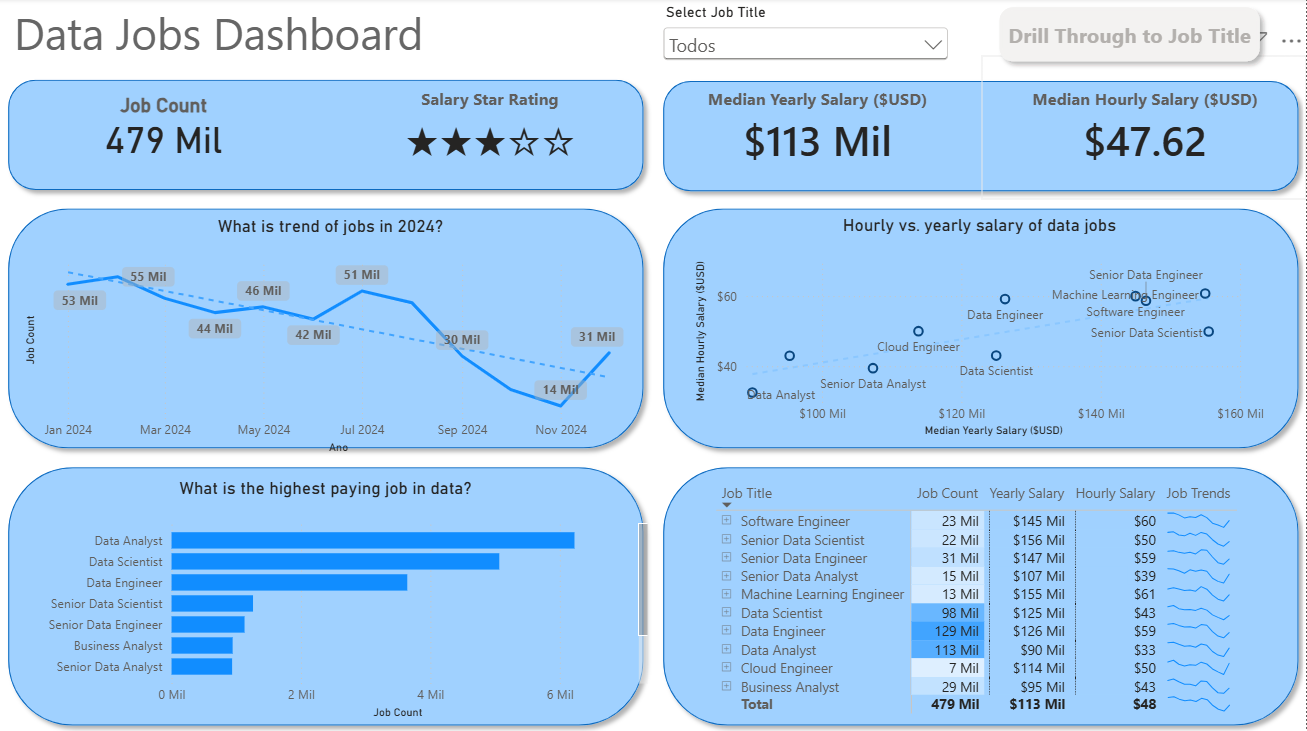

Layout of this report page (visuals, bound fields, positions):
{"tool":"powerbi","page":{"name":"Data Jobs Dashboard","canvas":[1280,720],"ordinal":0},"visuals":[{"type":"group","id":"g1","title":"Background","box":[0,70.6,1279.7,649.4],"z":0},{"type":"shape","box":[0,70.6,639.4,125.9],"z":0,"group":"g1"},{"type":"textbox","box":[9.2,0,630.8,70.9],"z":1000},{"type":"shape","box":[640.3,71.5,639.4,125.9],"z":1000,"group":"g1"},{"type":"slicer","fields":{"Values":["job_postings_flat.job_title_short"]},"box":[640,0,298.7,71.1],"z":2000},{"type":"shape","box":[0,196.5,639.4,252.7],"z":2000,"group":"g1"},{"type":"cardVisual","fields":{"Data":["CountNonNull(job_postings_flat.job_title_short)"]},"box":[0.9,56.8,320,140],"z":3000},{"type":"shape","box":[640.3,196.5,639.4,252.7],"z":3000,"group":"g1"},{"type":"cardVisual","fields":{"Data":["job_postings_flat.Salary Star Rating"]},"box":[320.9,56.4,320,140],"z":4000},{"type":"shape","box":[0,449.2,639.4,270.8],"z":4000,"group":"g1"},{"type":"cardVisual","fields":{"Data":["Median(job_postings_flat.salary_year_avg)"]},"box":[640.9,56.4,320,140],"z":5000},{"type":"shape","box":[640.3,449.2,639.4,270.8],"z":5000,"group":"g1"},{"type":"cardVisual","fields":{"Data":["Median(job_postings_flat.salary_hour_avg)"]},"box":[960.9,56.4,320,140],"z":6000},{"type":"lineChart","title":"What is trend of jobs in 2024?","fields":{"Category":["job_postings_flat.job_posted_date.Variation.Hierarquia de datas.Ano","job_postings_flat.job_posted_date.Variation.Hierarquia de datas.Trimestre","job_postings_flat.job_posted_date.Variation.Hierarquia de datas.Mês","job_postings_flat.job_posted_date.Variation.Hierarquia de datas.Dia"],"Y":["CountNonNull(job_postings_flat.job_title_short)"]},"box":[20.2,212.2,607.3,237.5],"z":7000},{"type":"barChart","title":"What is the highest paying job in data?","fields":{"Category":["job_postings_flat.job_title_short"],"Y":["CountNonNull(job_postings_flat.salary_year_avg)"]},"box":[0,469.8,639.1,239.9],"z":8000},{"type":"scatterChart","title":"Hourly vs. yearly salary of data jobs","fields":{"Series":["job_postings_flat.job_title_short"],"X":["Median(job_postings_flat.salary_year_avg)"],"Y":["Median(job_postings_flat.salary_hour_avg)"]},"box":[676.5,211.9,566,222.8],"z":9000},{"type":"pivotTable","fields":{"Rows":["job_postings_flat.job_title_short","job_postings_flat.job_posted_date.Variation.Hierarquia de datas.Trimestre"],"Values":["CountNonNull(job_postings_flat.job_title_short)","Median(job_postings_flat.salary_year_avg)","Median(job_postings_flat.salary_hour_avg)","SparklineData(CountNonNull(job_postings_flat.job_title_short)_[job_postings_flat.job_posted_date.Variation.Hierarquia de"]},"box":[697.3,469.9,582.1,249.6],"z":10000},{"type":"actionButton","box":[969.7,0,272.7,70.9],"z":11000}]}

Visuals, with their boxes in screenshot pixels (x1, y1, x2, y2), scaled from the page's 1280x720 canvas onto the 1307x731 screenshot:
"Background" group: (left=0, top=72, right=1306, bottom=730)
shape: (left=0, top=72, right=653, bottom=200)
textbox: (left=9, top=0, right=654, bottom=72)
shape: (left=654, top=73, right=1306, bottom=200)
slicer - job_postings_flat.job_title_short: (left=654, top=0, right=959, bottom=72)
shape: (left=0, top=200, right=653, bottom=456)
cardVisual - CountNonNull(job_postings_flat.job_title_short): (left=1, top=58, right=328, bottom=200)
shape: (left=654, top=200, right=1306, bottom=456)
cardVisual - job_postings_flat.Salary Star Rating: (left=328, top=57, right=654, bottom=199)
shape: (left=0, top=456, right=653, bottom=730)
cardVisual - Median(job_postings_flat.salary_year_avg): (left=654, top=57, right=981, bottom=199)
shape: (left=654, top=456, right=1306, bottom=730)
cardVisual - Median(job_postings_flat.salary_hour_avg): (left=981, top=57, right=1306, bottom=199)
"What is trend of jobs in 2024?" lineChart: (left=21, top=215, right=641, bottom=457)
"What is the highest paying job in data?" barChart: (left=0, top=477, right=653, bottom=721)
"Hourly vs. yearly salary of data jobs" scatterChart: (left=691, top=215, right=1269, bottom=441)
pivotTable - job_postings_flat.job_title_short x job_postings_flat.job_posted_date.Variation.Hierarquia de datas.Trimestre: (left=712, top=477, right=1306, bottom=730)
actionButton: (left=990, top=0, right=1269, bottom=72)
